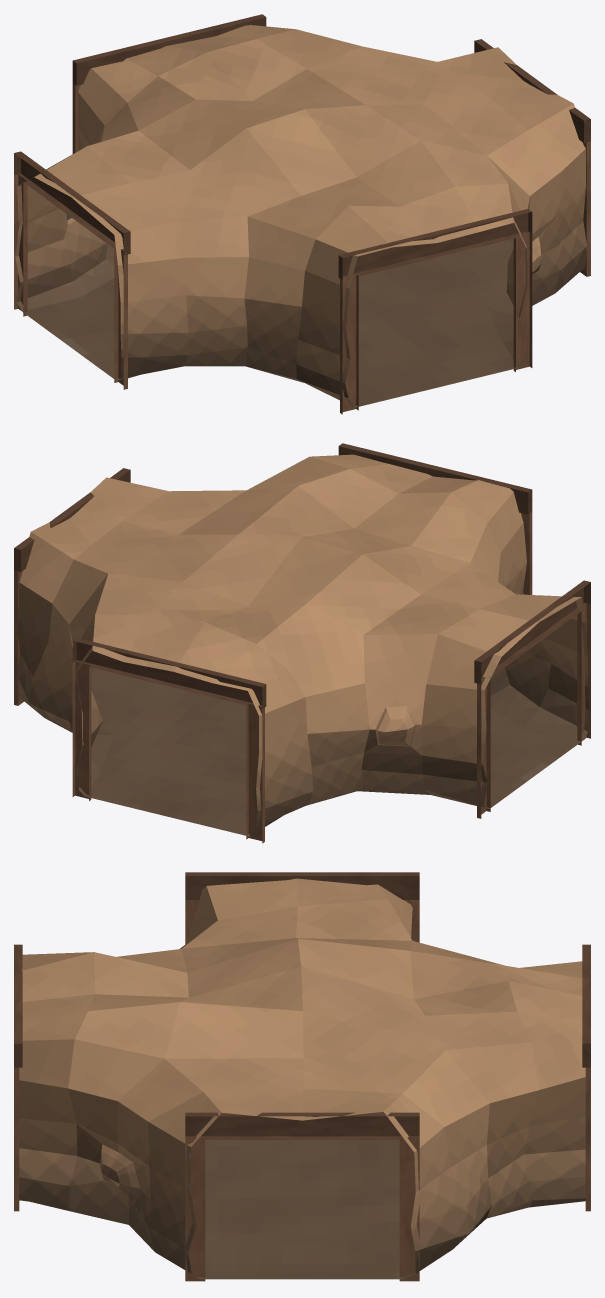
The model's file is SM_OreXJunction.fbx.
3 renders of one model, top to bottom at view 1: azimuth 30°, elevation 25°; view 2: azimuth 150°, elevation 25°; view 3: azimuth 270°, elevation 25°, orthographic. The views are drawn at different scales.
Visible parts, largest first — view 1: X Junction.001, Support -y, Support -x, Support y, Support x; view 2: X Junction.001, Support y, Support -x, Support -y, Support x; view 3: X Junction.001, Support x, Support -x, Support y, Support -y.
Boxes of the visible parts, x1,y1,x2,y2 form: X Junction.001: (15,25,586,407); Support -y: (338,209,532,414); Support -x: (14,151,130,389); Support y: (72,14,266,153); Support x: (474,39,590,276); X Junction.001: (17,454,588,836); Support y: (72,638,266,843); Support -x: (474,580,590,818); Support -y: (338,443,532,594); Support x: (14,468,130,705); X Junction.001: (19,878,585,1279); Support x: (185,1112,419,1281); Support -x: (185,872,419,944); Support y: (582,944,590,1211); Support -y: (14,944,22,1211).
Size of the model in its own units: 1000 by 375 by 1000.
